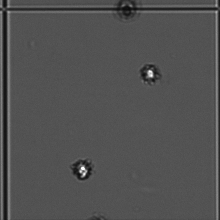Dead Cell: (114, 3, 144, 29)
Living Cell: (137, 60, 166, 96), (68, 152, 95, 187)
